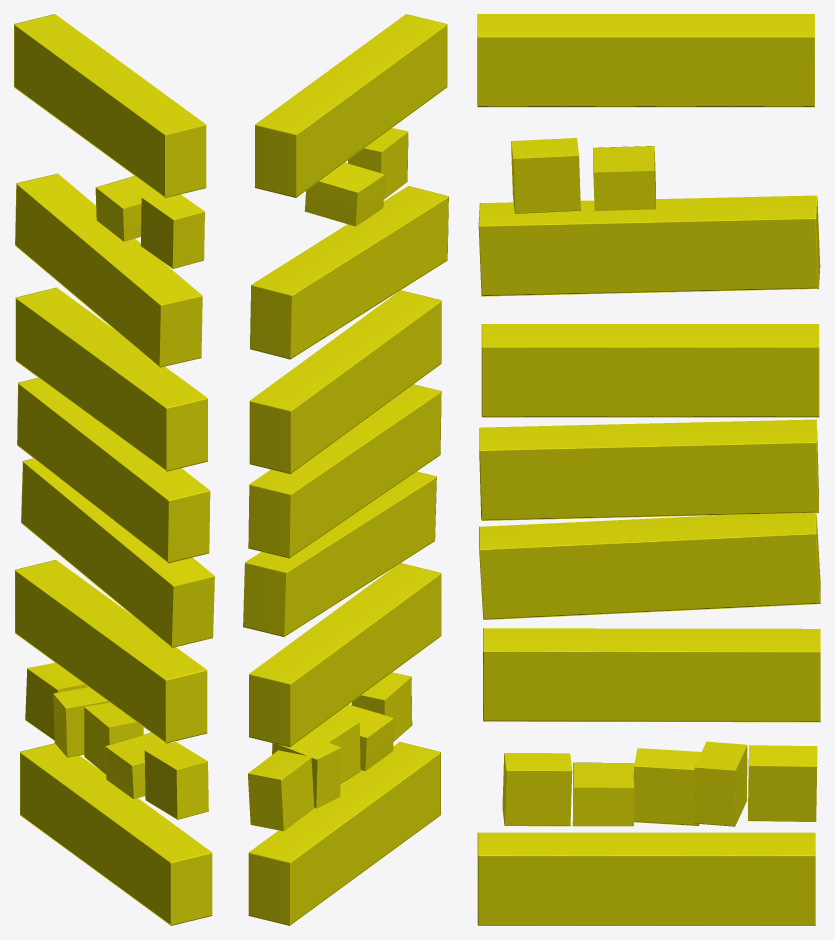
File: Bookcase_04B_Lod0.fbx
3 views of the same model, side by side, from view 1: azimuth 30°, elevation 25°; view 2: azimuth 150°, elevation 25°; view 3: azimuth 270°, elevation 25° (orthographic). The views are drawn at different scales.
Parts seen in each view (by area): view 1: Bookcase_04B_Lod0; view 2: Bookcase_04B_Lod0; view 3: Bookcase_04B_Lod0.
Boxes of the visible parts, bbox=[...] form: Bookcase_04B_Lod0: bbox=[14, 14, 214, 925]; Bookcase_04B_Lod0: bbox=[243, 14, 448, 925]; Bookcase_04B_Lod0: bbox=[477, 14, 820, 925].
Size of the model in its own units: 34.08 by 394 by 138.
